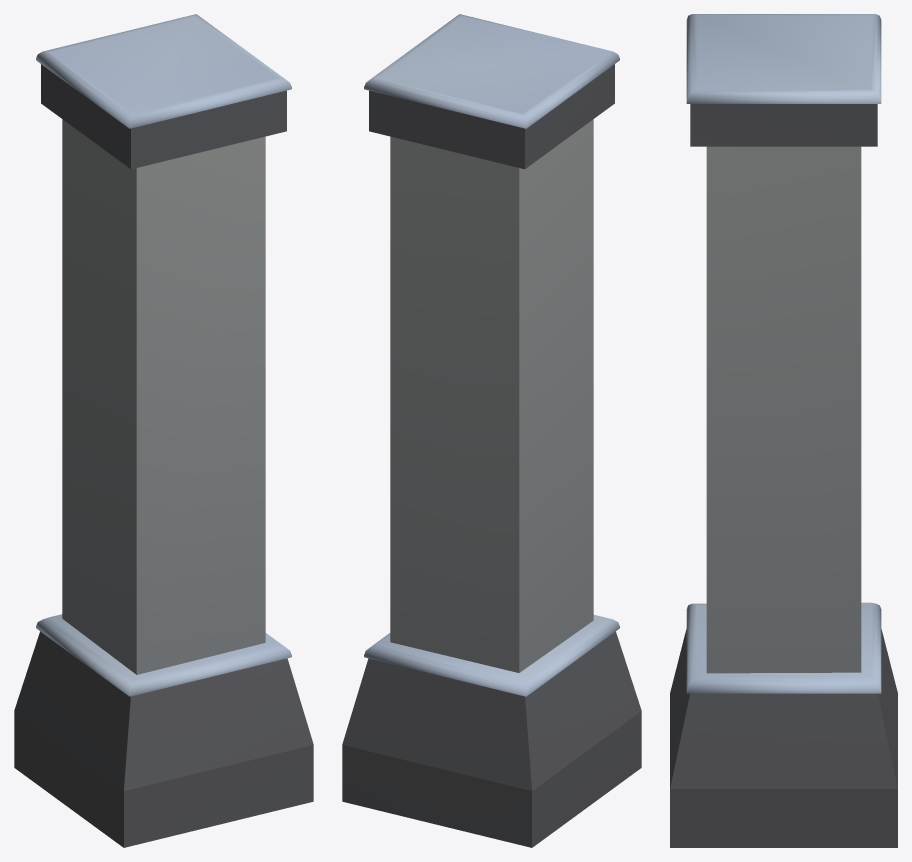
The model's file is bridge_pillar.glb.
The picture shows the model from 3 angles, left to right: view 1: azimuth 30°, elevation 25°; view 2: azimuth 150°, elevation 25°; view 3: azimuth 270°, elevation 25°; orthographic projection. The views are drawn at different scales.
Parts seen in each view (by area): view 1: Prop; view 2: Prop; view 3: Prop.
Boxes of the visible parts, x1,y1,x2,y2 form: Prop: (14, 14, 313, 847); Prop: (342, 14, 641, 847); Prop: (670, 14, 897, 847).
Size of the model in its own units: 1.68 by 6.1 by 1.68.
